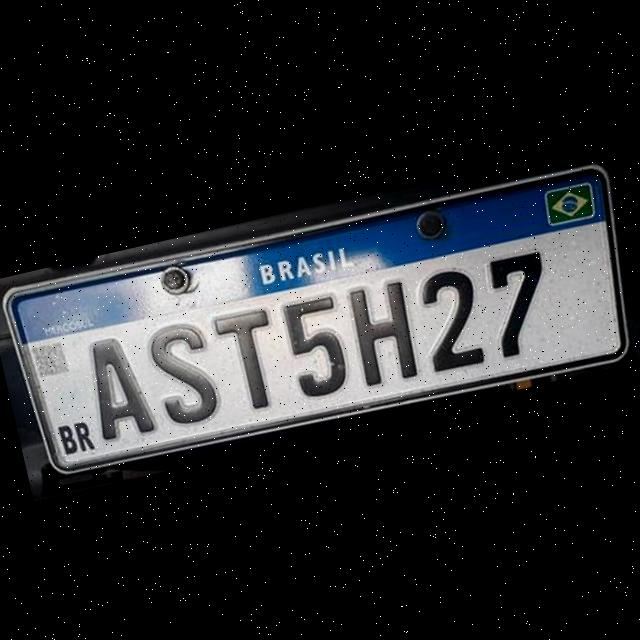Caractere: (140, 314, 226, 432), (478, 244, 564, 362), (340, 276, 424, 392), (77, 328, 159, 446), (208, 300, 290, 418), (412, 261, 491, 376), (278, 291, 358, 404)
Placa: (0, 170, 563, 502)
